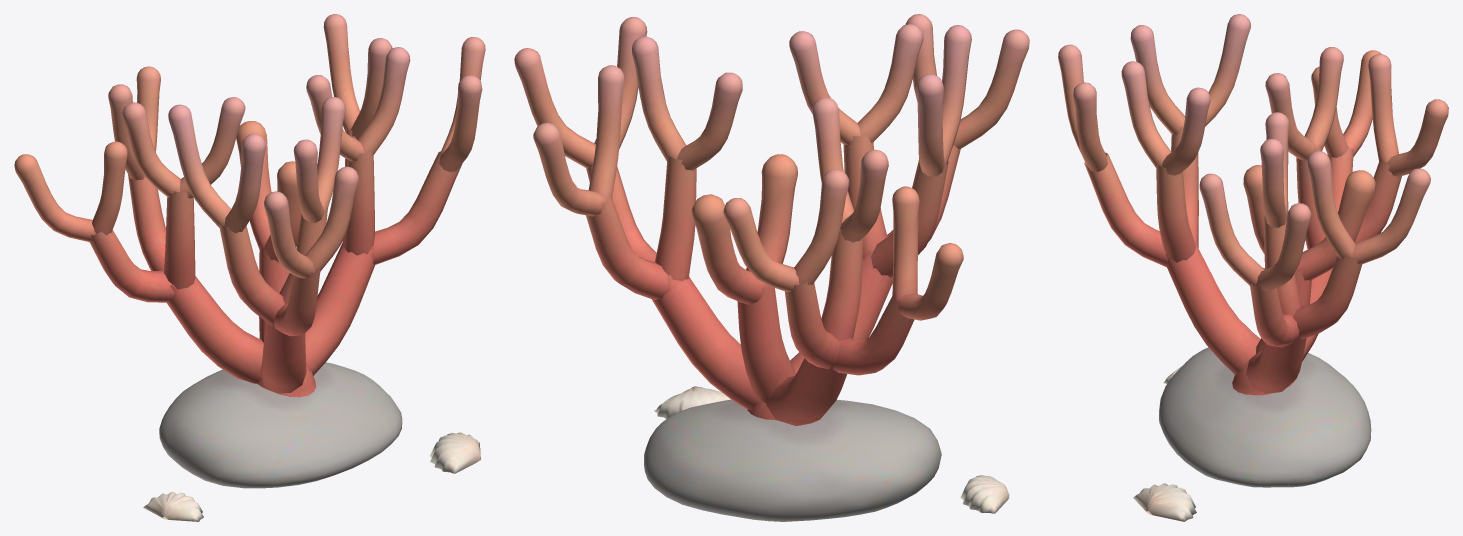
Rendered from coral.glb.
The picture shows the model from 3 angles, left to right: view 1: azimuth 30°, elevation 25°; view 2: azimuth 150°, elevation 25°; view 3: azimuth 270°, elevation 25°; orthographic projection. The views are drawn at different scales.
Parts seen in each view (by area): view 1: coral-branch_body; view 2: coral-branch_body; view 3: coral-branch_body.
Part boxes in pixels (x1=…): coral-branch_body: x1=14, y1=14, x2=485, y2=521; coral-branch_body: x1=514, y1=14, x2=1029, y2=521; coral-branch_body: x1=1058, y1=14, x2=1448, y2=521.
Size of the model in its own units: 0.4144 by 0.3549 by 0.3313.
1 material, 1 textured.
